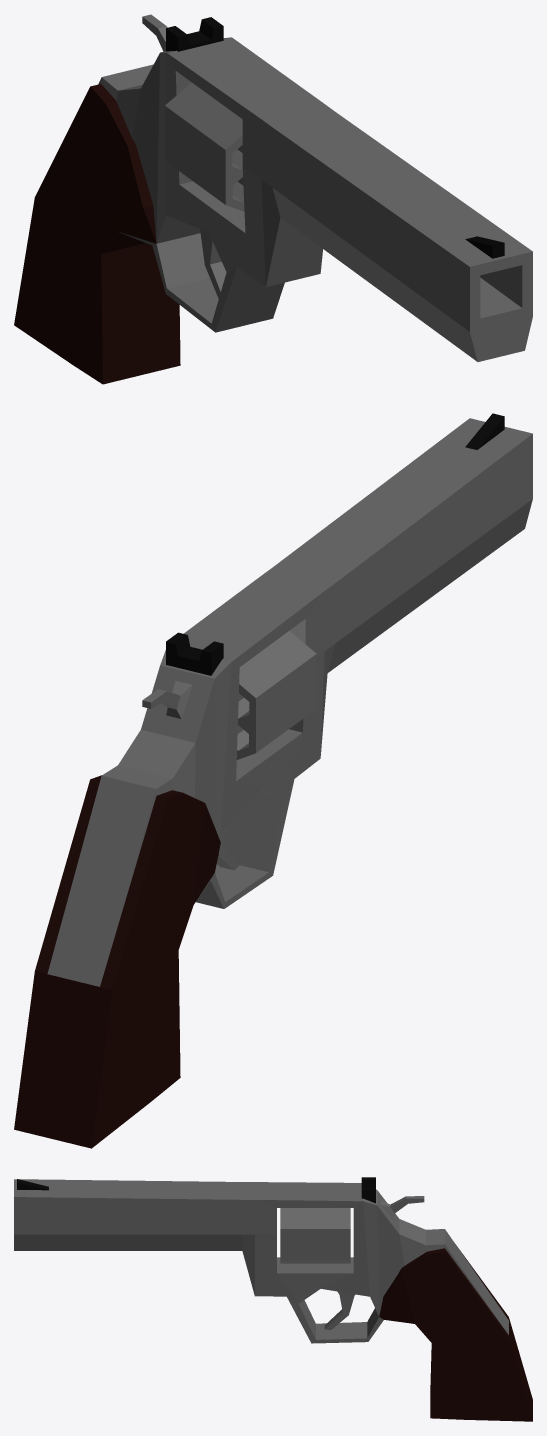
File: Colt_Python.obj
3 views of the same model, one above another, from view 1: azimuth 30°, elevation 25°; view 2: azimuth 150°, elevation 25°; view 3: azimuth 270°, elevation 25° (orthographic). The views are drawn at different scales.
Parts seen in each view (by area): view 1: Colt_Python_Cube; view 2: Colt_Python_Cube; view 3: Colt_Python_Cube.
Boxes of the visible parts, x1=… form: Colt_Python_Cube: x1=14, y1=14, x2=532, y2=384; Colt_Python_Cube: x1=14, y1=413, x2=532, y2=1148; Colt_Python_Cube: x1=14, y1=1177, x2=532, y2=1421.
Bounding box in the file's own units: 0.0354 × 0.1477 × 0.3017.
